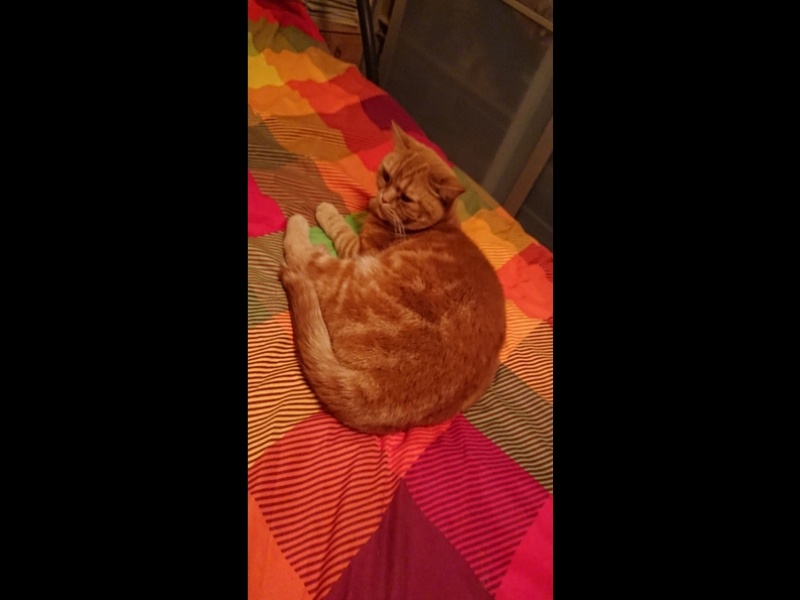cat: (278, 117, 510, 438)
